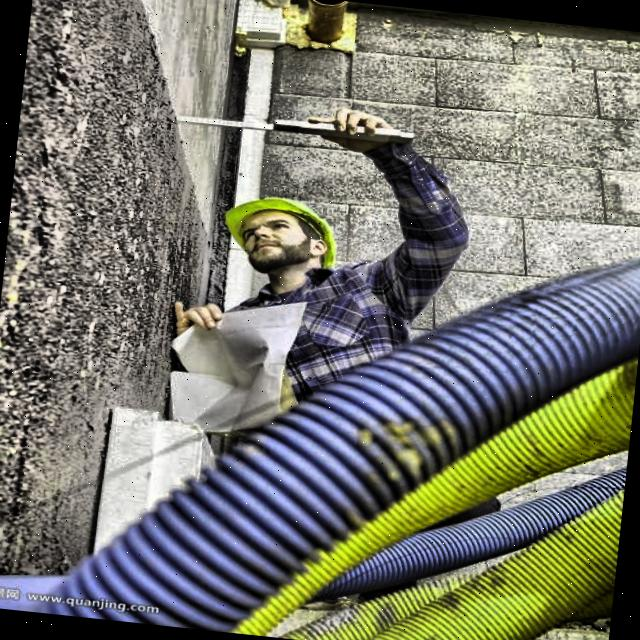helmet: (203, 174, 355, 294)
